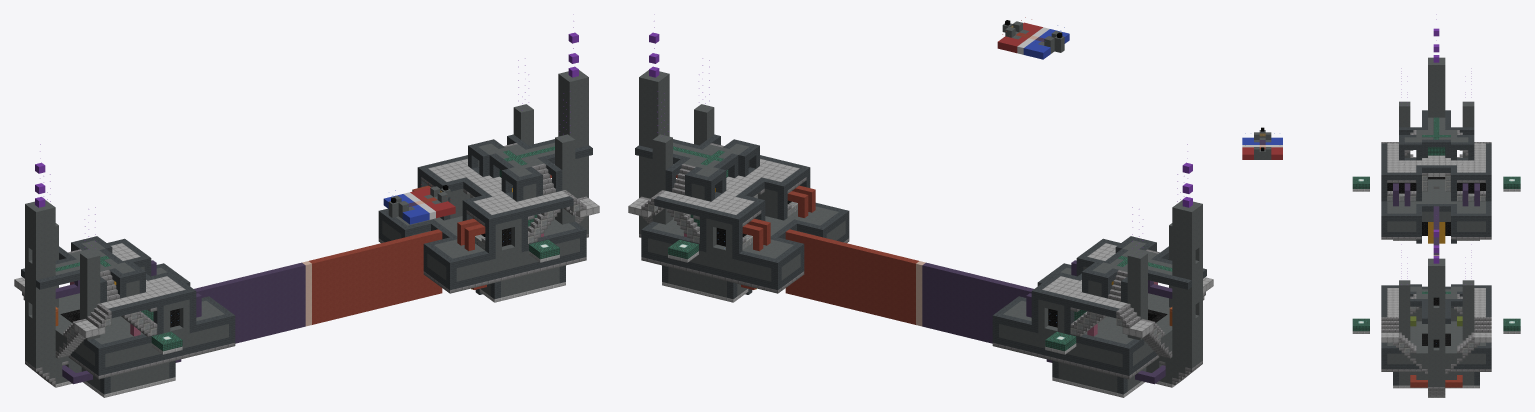
Rendered from minecraft.obj.
The picture shows the model from 3 angles, left to right: view 1: azimuth 30°, elevation 25°; view 2: azimuth 150°, elevation 25°; view 3: azimuth 270°, elevation 25°; orthographic projection. The views are drawn at different scales.
Size of the model in its own units: 85 by 36 by 48.
